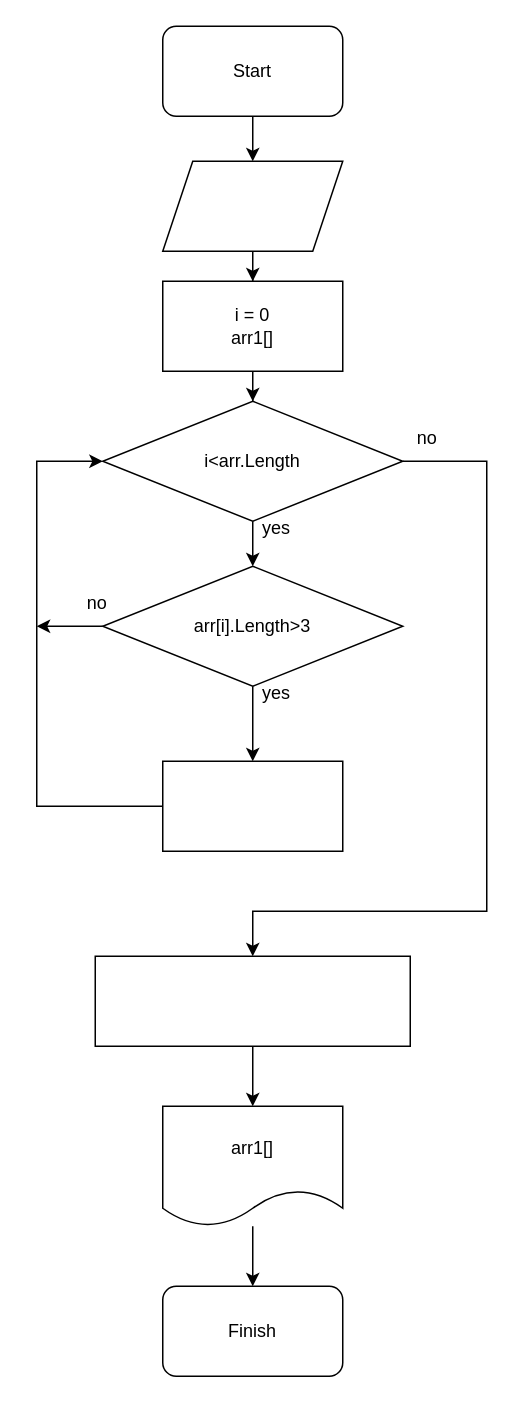
The diagram is 525 pixels wide and 1403 high, and some of its shapes have lost their labels. The shapes that lost their labels are listed below. From the top down, each one's centre as x and y in pixels, then its label:
(x=252, y=205): arr[]
(x=252, y=805): arr[i] = String.Empty
(x=252, y=1000): arr1 = arr . Where ( x => x != String . Empty ). ToArray ()
